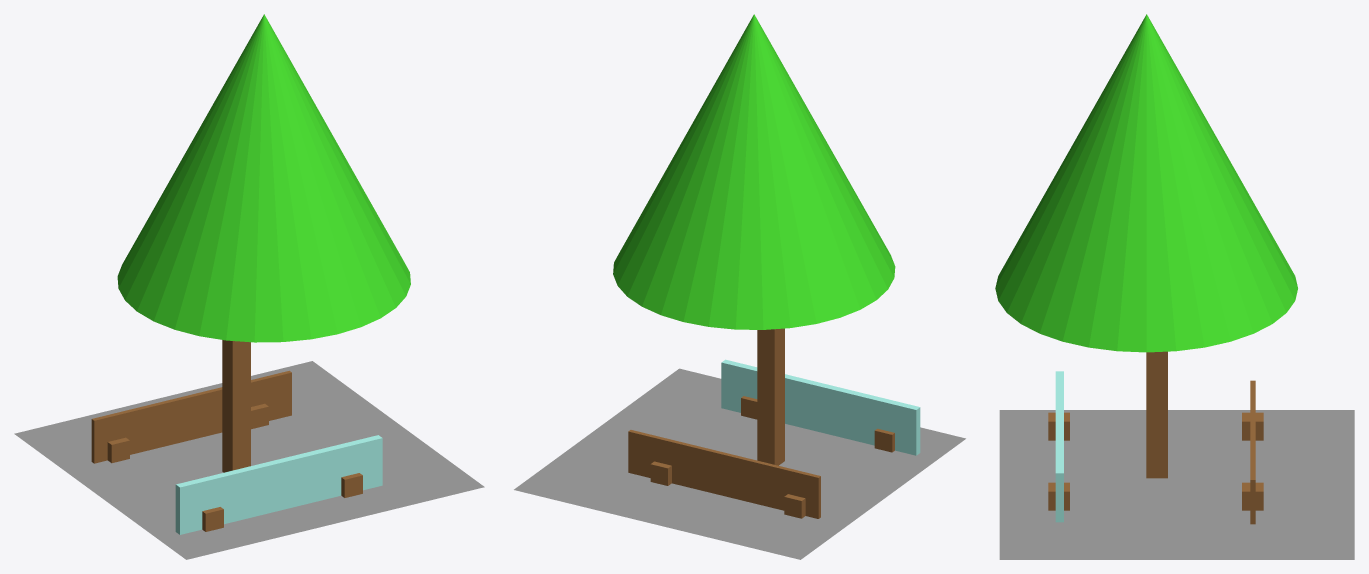
The model's file is testmsh.glb.
3 views of the same model, side by side, from view 1: azimuth 30°, elevation 25°; view 2: azimuth 150°, elevation 25°; view 3: azimuth 270°, elevation 25° (orthographic). The views are drawn at different scales.
Parts seen in each view (by area): view 1: Cone, Plane, Cube.002, Cube, Cube.001; view 2: Cone, Plane, Cube.002, Cube, Cube.001; view 3: Cone, Plane, Cube.001, Cube.002, Cube, Cube.003, Cube.004.
Boxes of the visible parts, left/top/right/bottom form: Cone: left=117, top=14, right=410, bottom=342; Plane: left=14, top=361, right=484, bottom=559; Cube.002: left=175, top=435, right=382, bottom=534; Cube: left=91, top=370, right=291, bottom=463; Cube.001: left=222, top=340, right=250, bottom=472; Cone: left=613, top=14, right=895, bottom=329; Plane: left=514, top=368, right=965, bottom=559; Cube.002: left=721, top=359, right=920, bottom=455; Cube: left=628, top=430, right=820, bottom=518; Cube.001: left=757, top=328, right=784, bottom=465; Cone: left=995, top=14, right=1297, bottom=352; Plane: left=999, top=410, right=1354, bottom=559; Cube.001: left=1146, top=351, right=1167, bottom=478; Cube.002: left=1055, top=371, right=1063, bottom=522; Cube: left=1250, top=380, right=1255, bottom=524; Cube.003: left=1242, top=412, right=1263, bottom=440; Cube.004: left=1242, top=482, right=1263, bottom=510.
Bounding box in the file's own units: 32.82 × 48.49 × 33.21.
